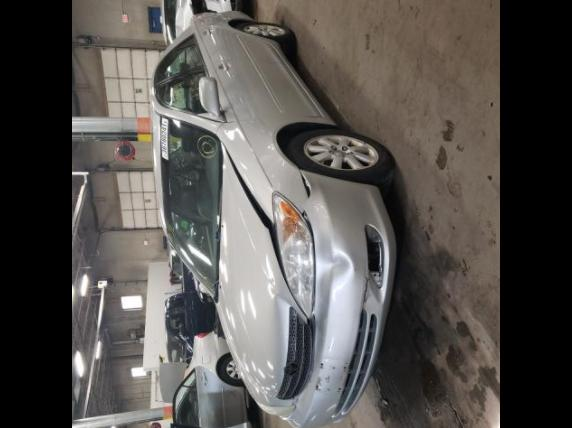Broken part: (223, 143, 292, 292), (297, 167, 315, 250)
Dent: (306, 180, 354, 360)
Flaking: (316, 359, 350, 393)
Missing part: (364, 223, 385, 285)
Scratch: (362, 276, 375, 304)
